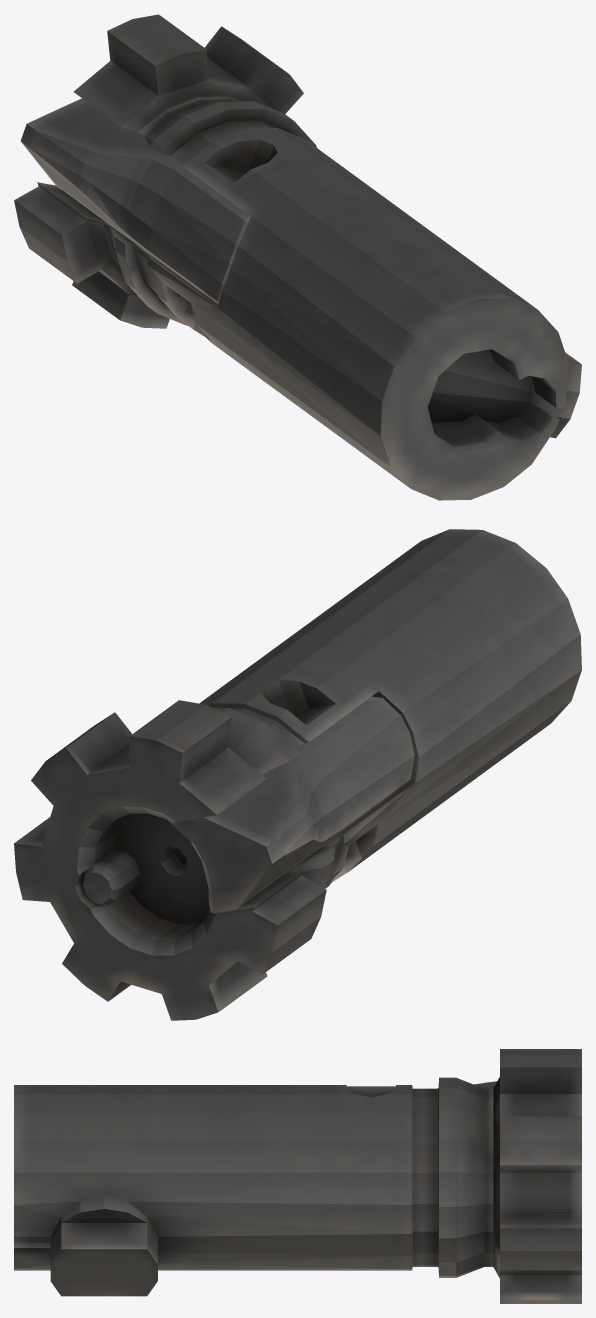
3 renders of one model, top to bottom at view 1: azimuth 30°, elevation 25°; view 2: azimuth 150°, elevation 25°; view 3: azimuth 270°, elevation 25°, orthographic. The views are drawn at different scales.
Parts seen in each view (by area): view 1: TW_5ba26383d4351e00334c93d9_PZ_Import; view 2: TW_5ba26383d4351e00334c93d9_PZ_Import; view 3: TW_5ba26383d4351e00334c93d9_PZ_Import.
Boxes of the visible parts, x1,y1,x2,y2 form: TW_5ba26383d4351e00334c93d9_PZ_Import: (14,14,581,500); TW_5ba26383d4351e00334c93d9_PZ_Import: (14,529,581,1020); TW_5ba26383d4351e00334c93d9_PZ_Import: (14,1049,581,1303).
Size of the model in its own units: 0.0105 by 0.0229 by 0.0103.
Materials: 1 (1 with a texture image).
